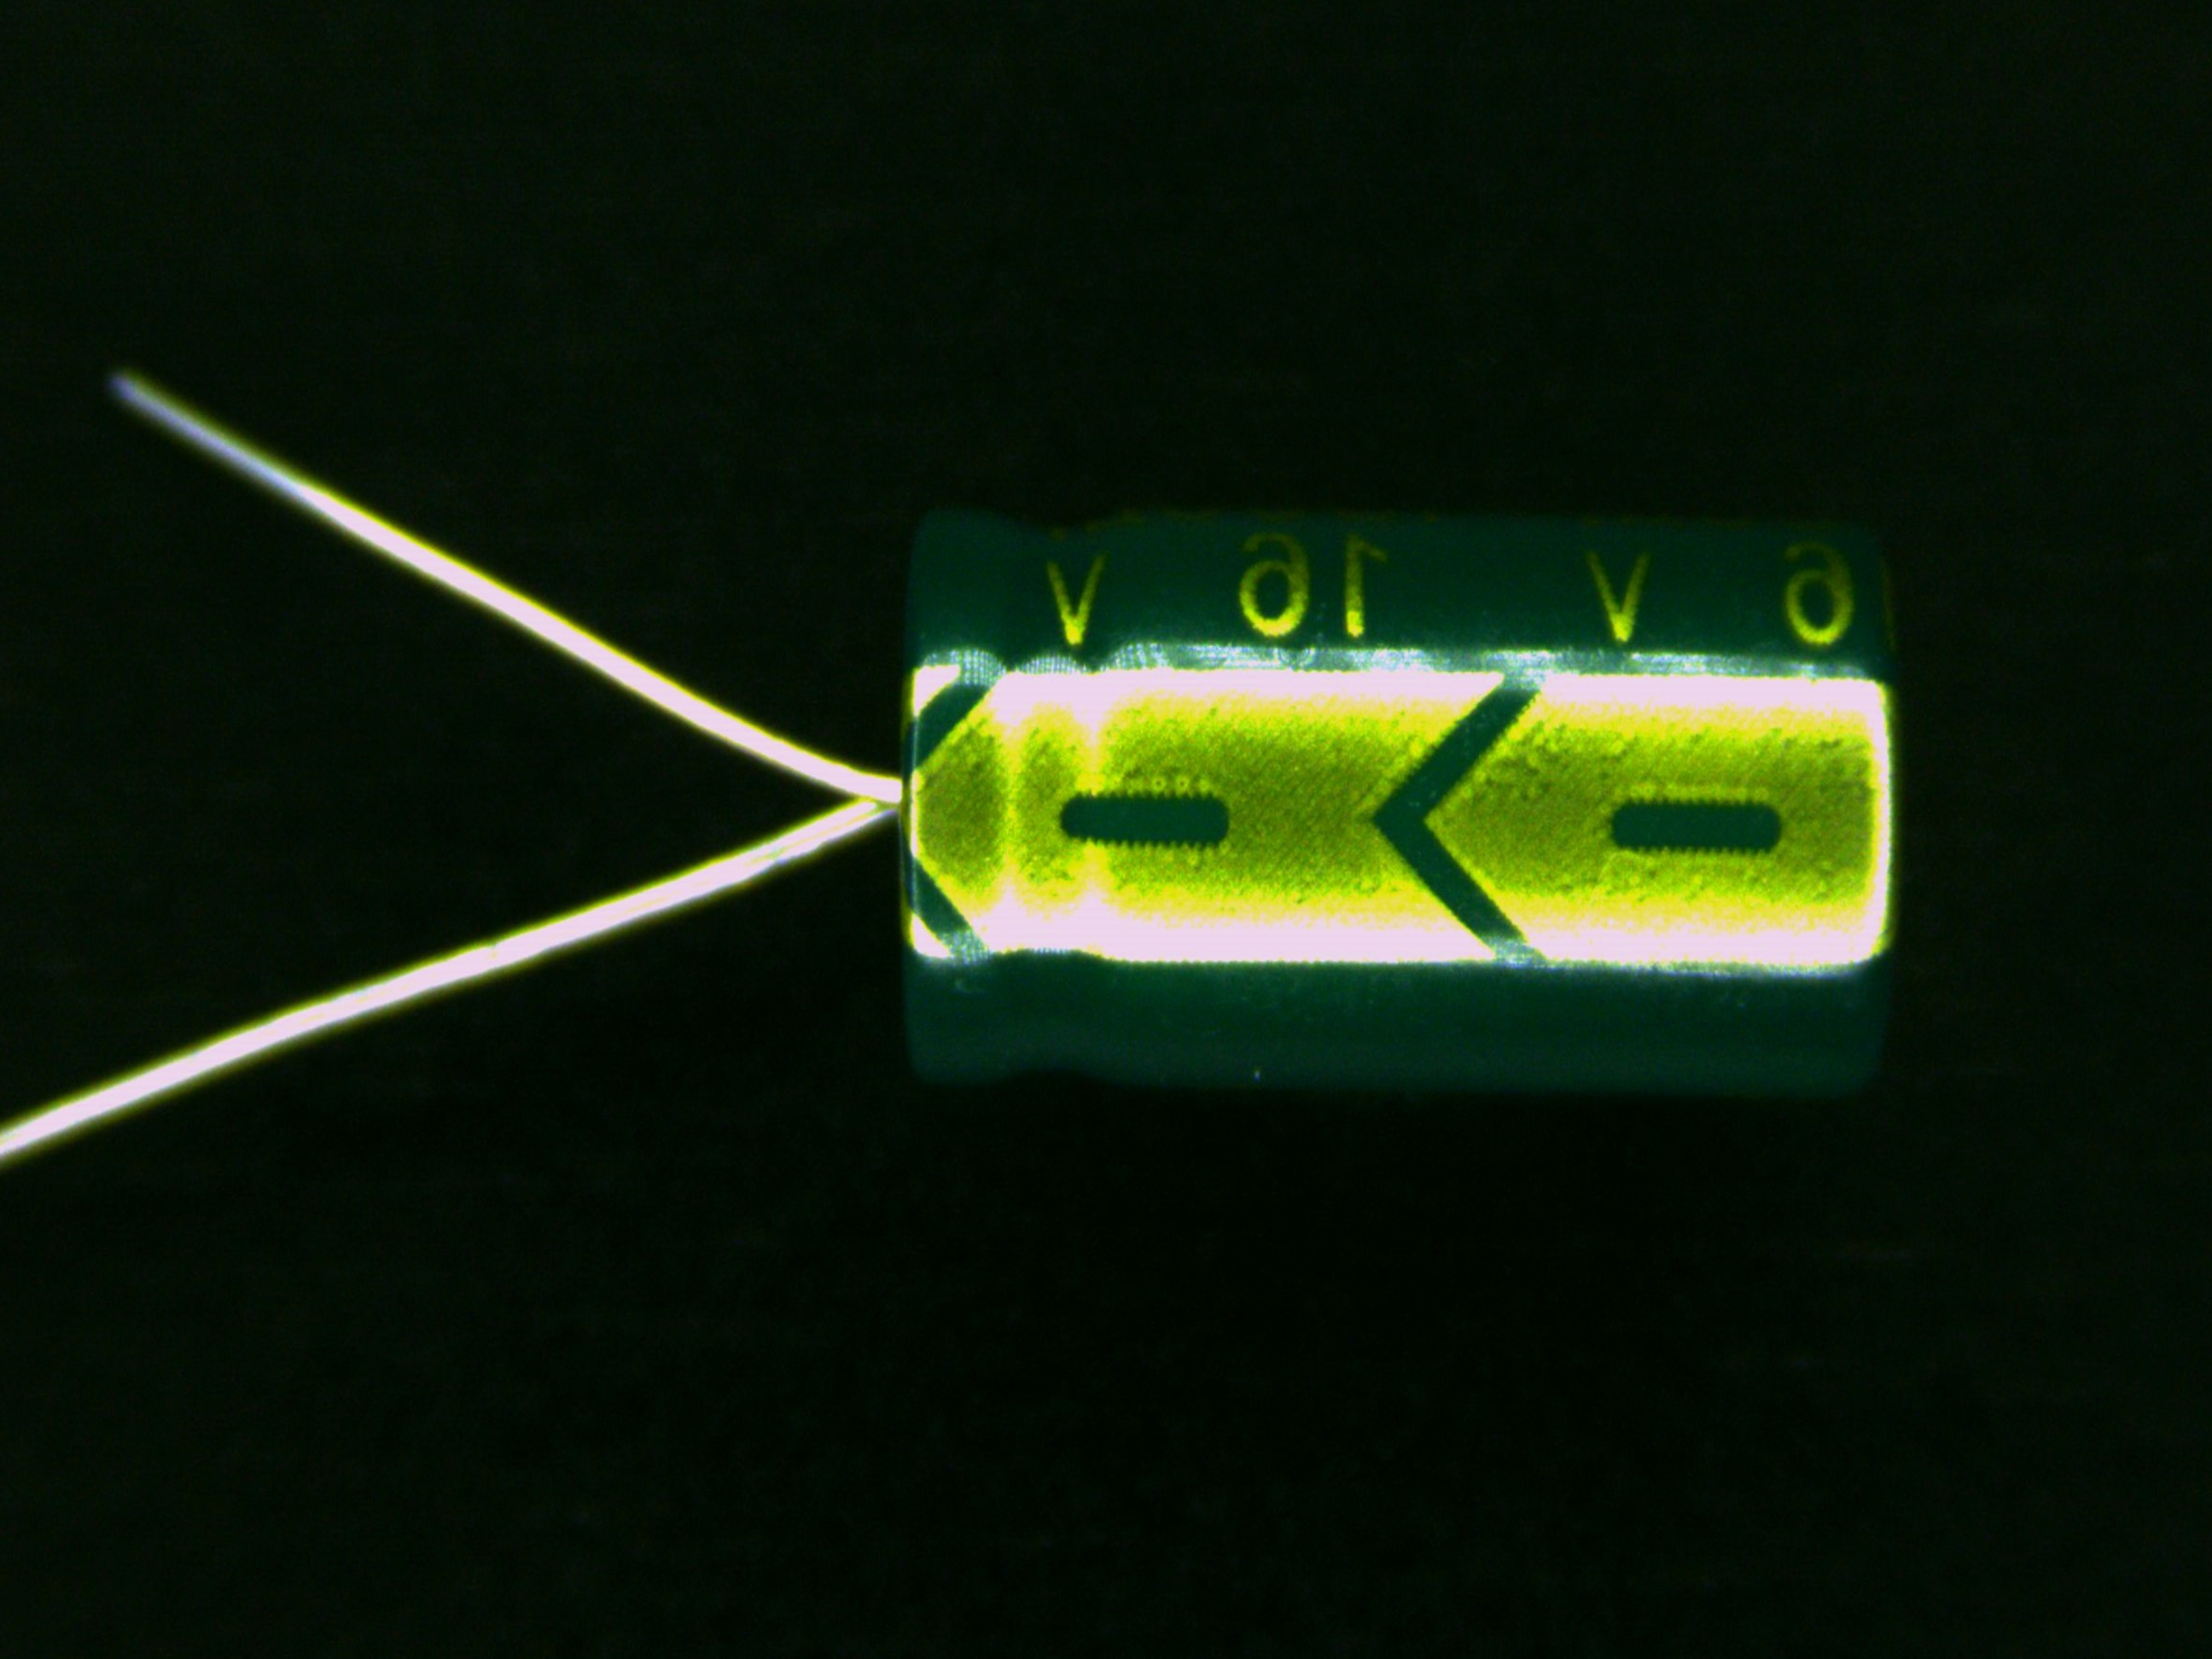c1: (631, 498, 1900, 1105)
